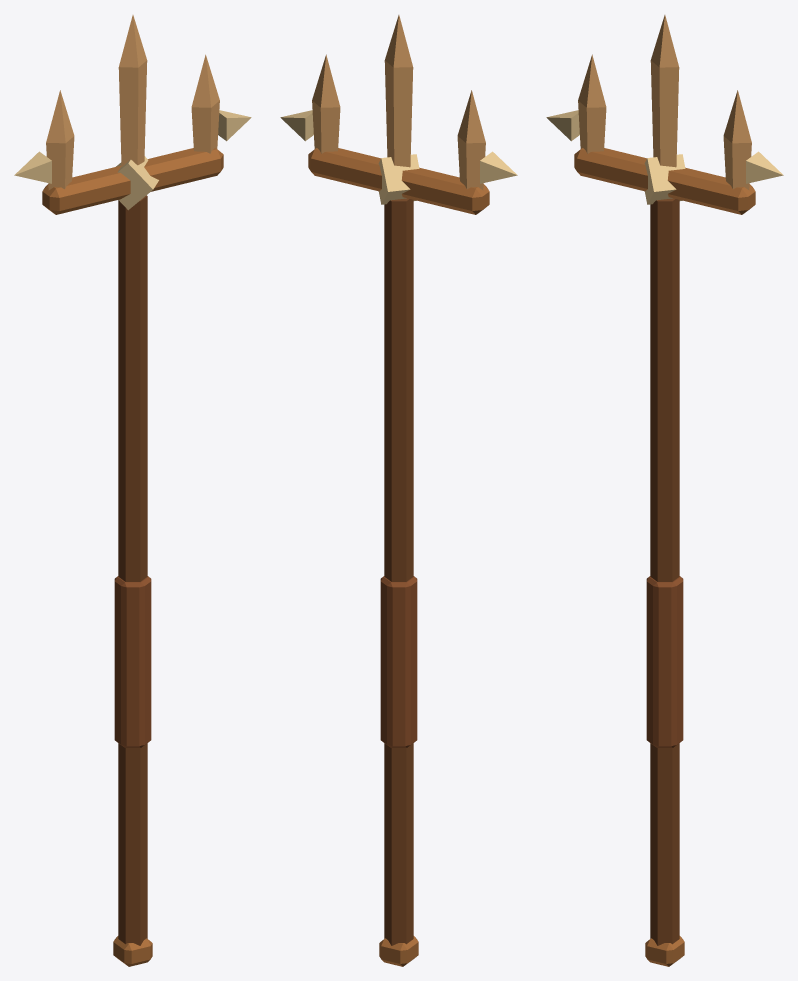
File: WoodTrident.fbx
3 renders of one model, left to right at view 1: azimuth 30°, elevation 25°; view 2: azimuth 150°, elevation 25°; view 3: azimuth 330°, elevation 25°, orthographic.
Parts seen in each view (by area): view 1: WoodTrident; view 2: WoodTrident; view 3: WoodTrident.
Boxes of the visible parts, x1,y1,x2,y2 form: WoodTrident: (14, 15, 251, 966); WoodTrident: (280, 15, 517, 966); WoodTrident: (546, 15, 783, 966).
Bounding box in the file's own units: 1.5 × 5.72 × 0.3414.
Materials: 1 (1 with a texture image).
